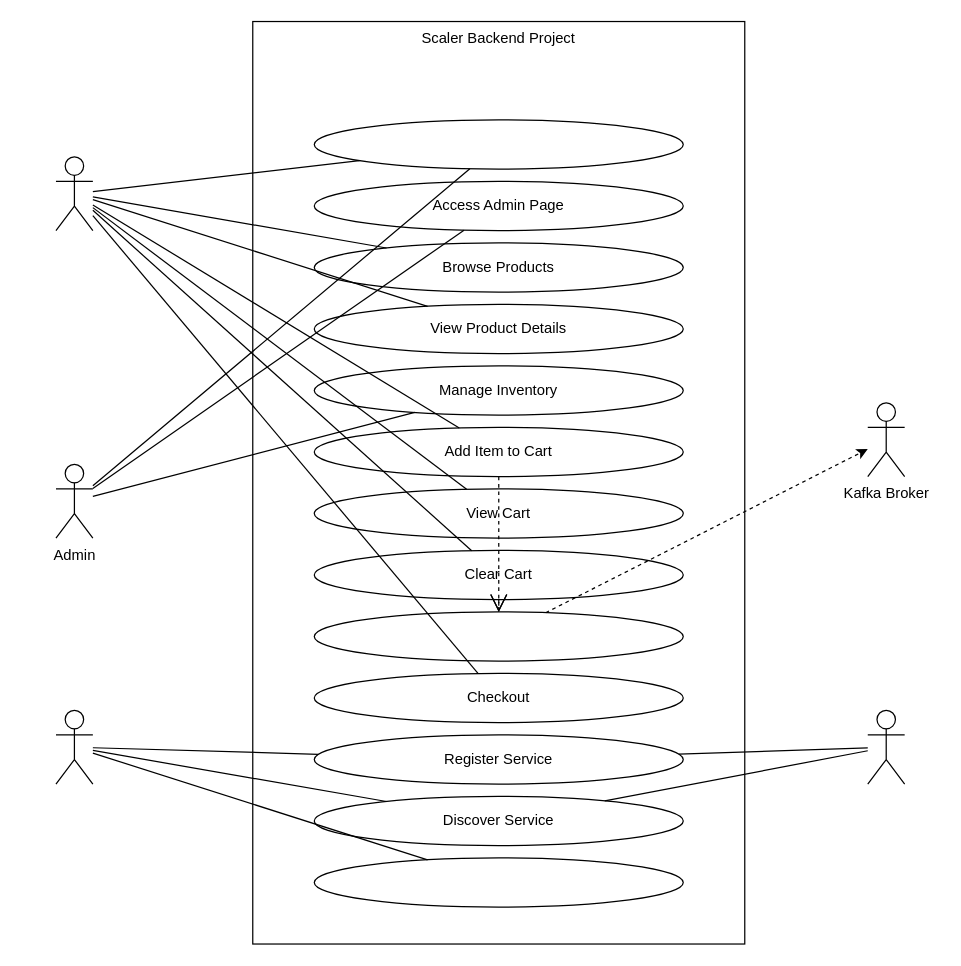
Some shapes in this 961 by 966 pixel diagram are drawn without their labels. Each missing label, with the centre of its shape:
"Discovery Client" goes at pixel 74 746.
"End User" goes at pixel 74 193.
"Invoke /hello" goes at pixel 498 882.
"Login / Authenticate" goes at pixel 498 144.
"Publish Cart Event" goes at pixel 498 636.
"Service Registry" goes at pixel 886 746.
